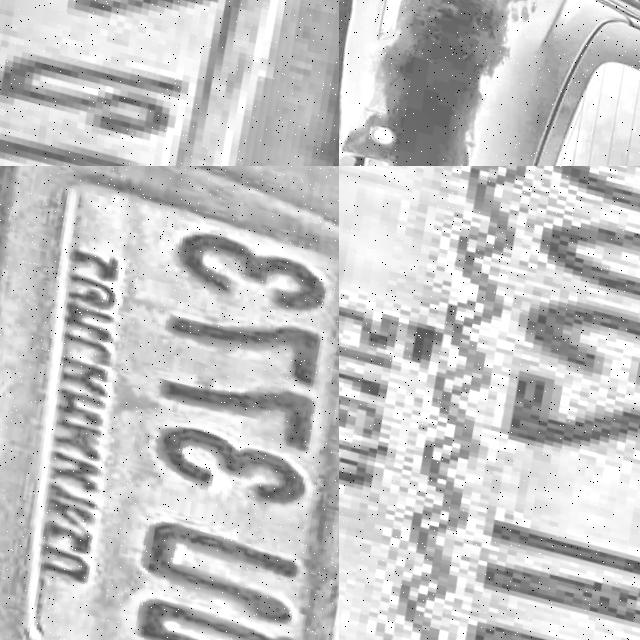license-plate: (0, 166, 339, 640), (339, 166, 640, 640), (0, 0, 339, 166)
